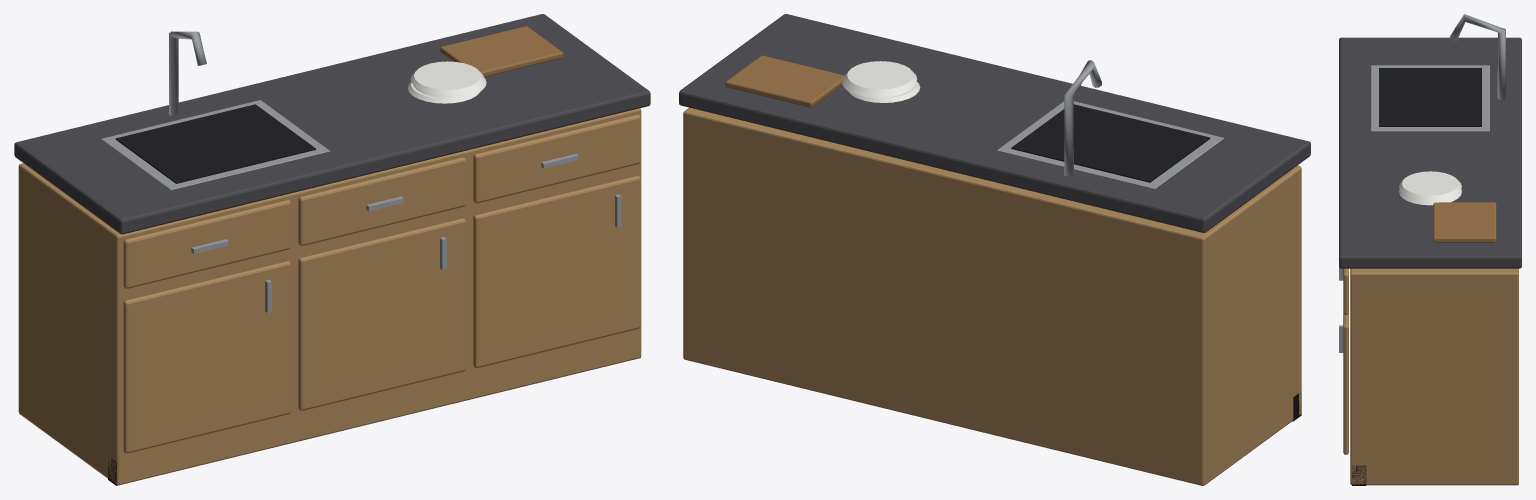
File: kitchen_counter.glb
The picture shows the model from 3 angles, left to right: view 1: azimuth 30°, elevation 25°; view 2: azimuth 150°, elevation 25°; view 3: azimuth 270°, elevation 25°; orthographic projection. The views are drawn at different scales.
Visible parts, largest first — view 1: kitchen_counter; view 2: kitchen_counter; view 3: kitchen_counter.
Boxes of the visible parts, <box> form: kitchen_counter: <box>14,14,650,485</box>; kitchen_counter: <box>679,14,1310,485</box>; kitchen_counter: <box>1339,14,1521,485</box>.
Bounding box in the file's own units: 1.82 × 1.21 × 0.64.
